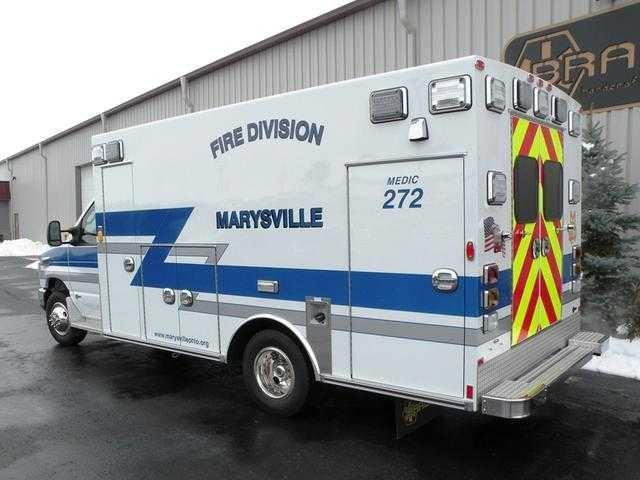car: (36, 53, 609, 429)
